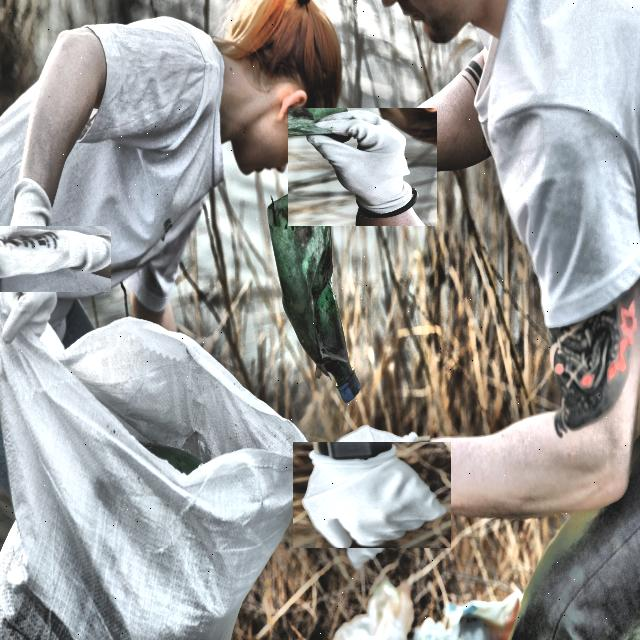gloved: (295, 100, 429, 234), (306, 428, 438, 560), (0, 206, 91, 312)
